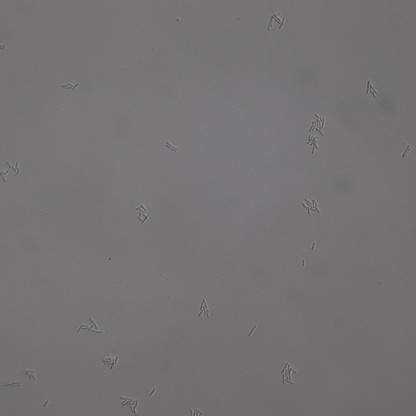R(colony): (118, 395, 139, 416), (1, 161, 20, 183), (77, 318, 102, 334), (301, 197, 320, 216), (281, 363, 296, 386), (309, 113, 325, 134), (134, 203, 148, 224), (268, 14, 285, 30), (101, 354, 118, 368), (364, 80, 377, 98), (198, 299, 210, 317), (307, 135, 318, 153), (60, 82, 79, 90), (23, 369, 36, 380), (167, 143, 178, 152)
